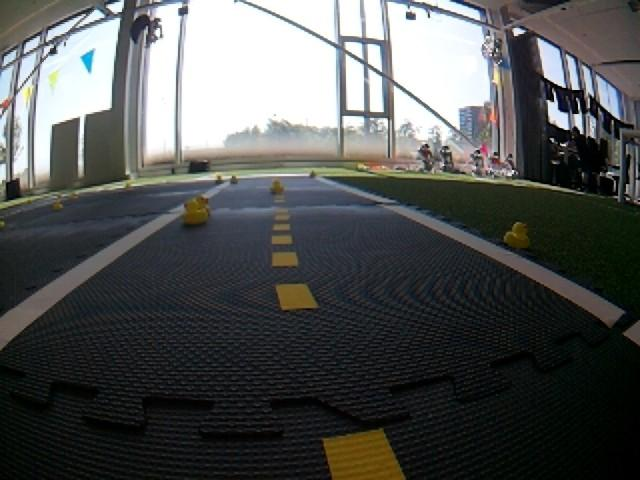Duckies: (503, 223, 531, 249), (182, 201, 208, 223), (193, 196, 209, 215), (271, 180, 285, 192), (214, 173, 224, 184), (52, 201, 64, 210), (309, 169, 318, 178), (125, 181, 132, 189), (71, 192, 78, 199), (232, 174, 240, 180)
